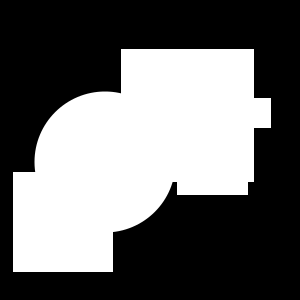circle: (121, 49, 254, 182), (13, 172, 113, 272), (177, 124, 248, 195), (241, 98, 271, 128)
rectangle: (34, 92, 176, 232)
